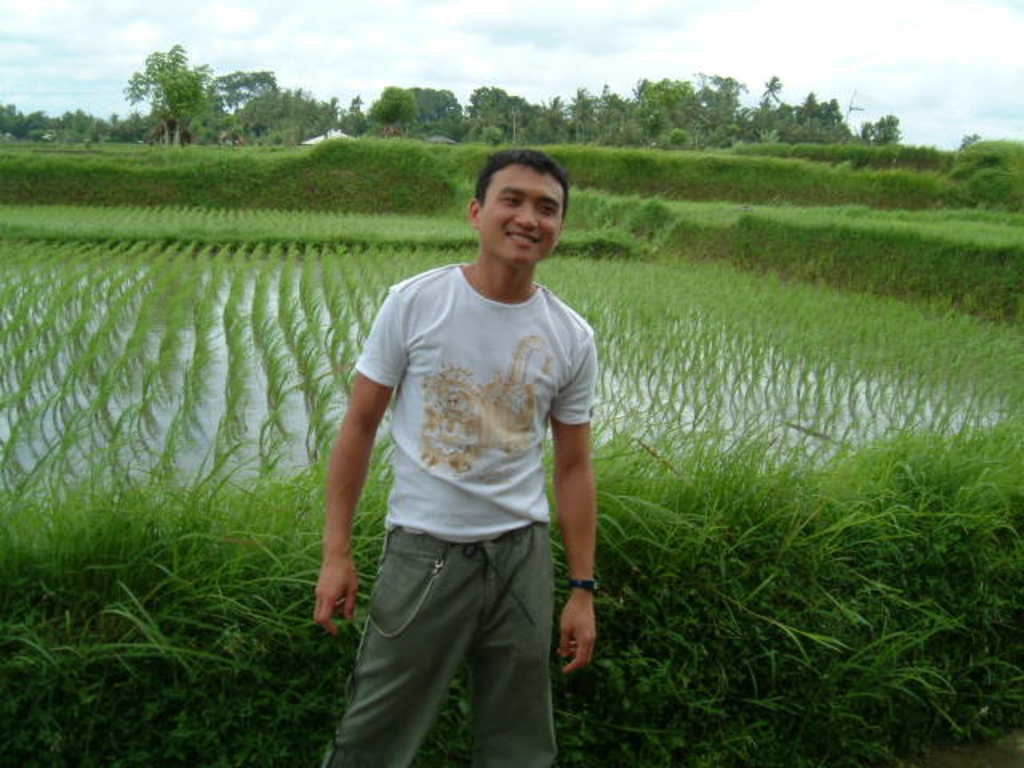Tree: (0, 44, 906, 148)
